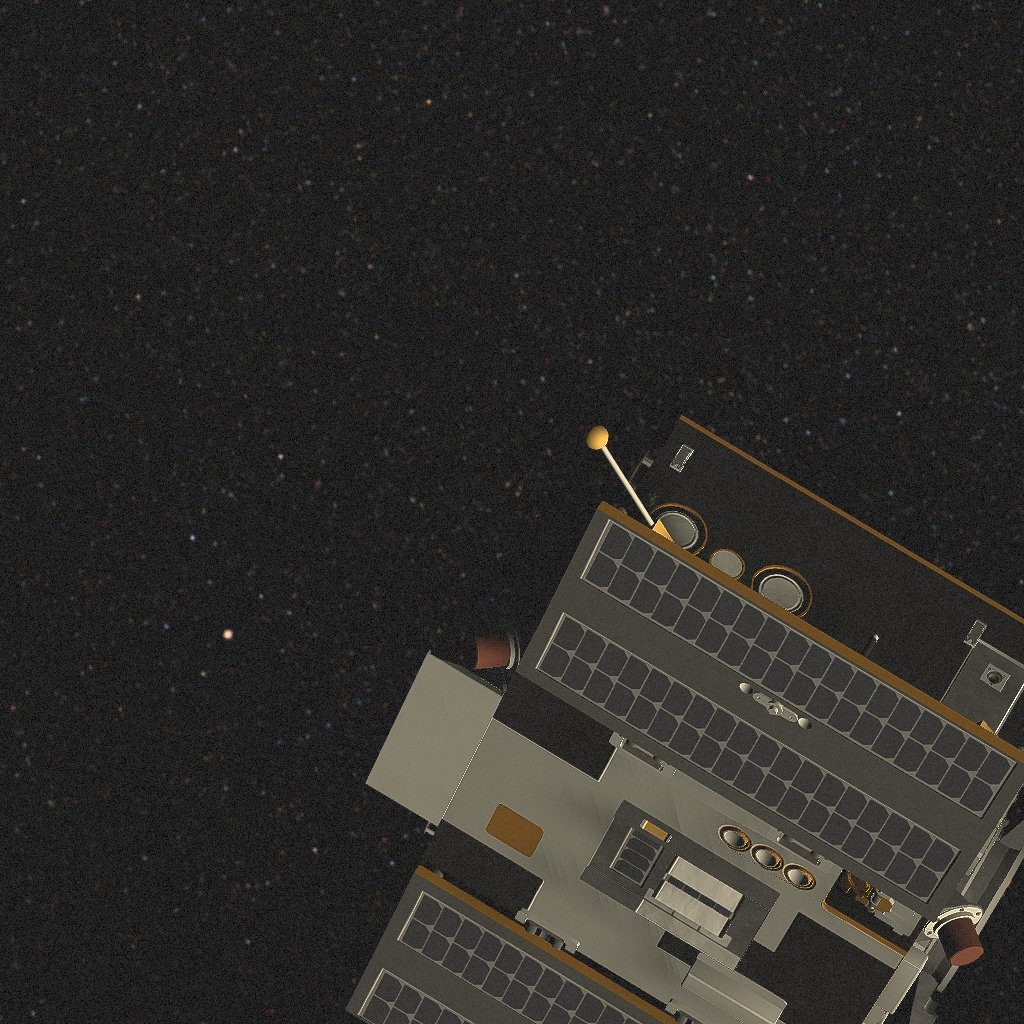proba_2: (346, 415, 1024, 1024)
